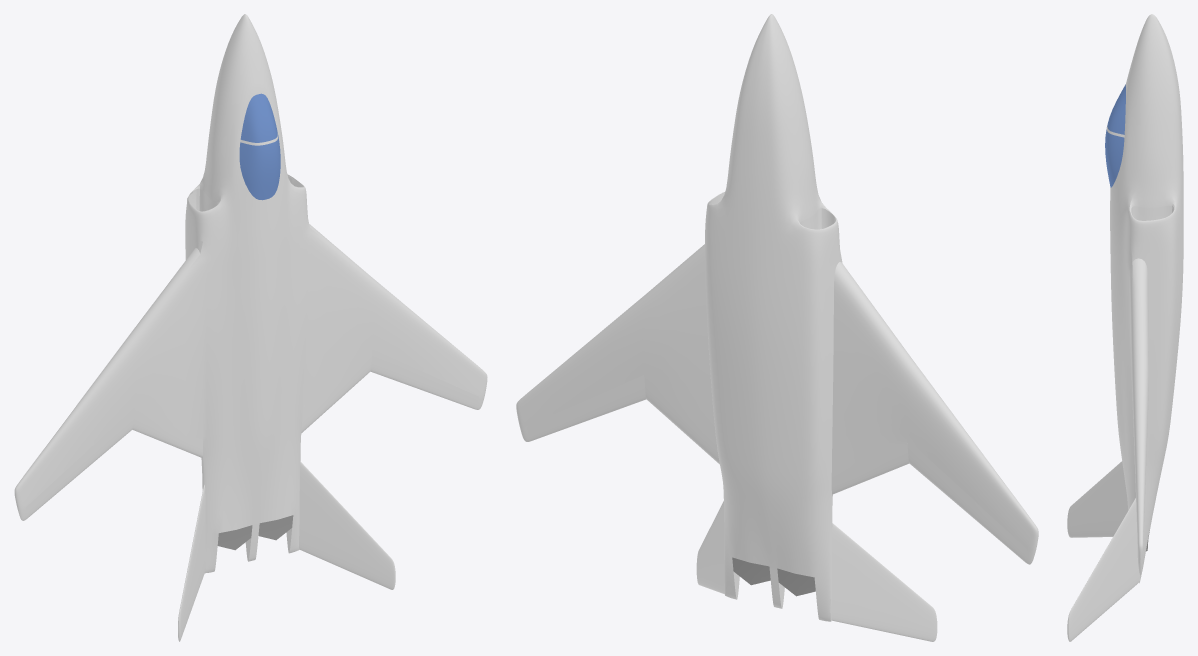
The picture shows the model from 3 angles, left to right: view 1: azimuth 30°, elevation 25°; view 2: azimuth 150°, elevation 25°; view 3: azimuth 270°, elevation 25°; orthographic projection. The views are drawn at different scales.
Visible parts, largest first — view 1: Body, Elevator-Rudder Right, Canopy1, Aileron Right, Aileron Left, Elevator-Rudder Left, Engine; view 2: Body, Elevator-Rudder Left, Aileron Right, Aileron Left, Elevator-Rudder Right, Engine; view 3: Body, Elevator-Rudder Right, Elevator-Rudder Left, Canopy1.
Part boxes in pixels (box(x1,y1,x2,y2)): Body: box(14, 14, 487, 573); Elevator-Rudder Right: box(299, 461, 395, 589); Canopy1: box(239, 93, 280, 200); Aileron Right: box(370, 349, 478, 409); Aileron Left: box(25, 407, 134, 517); Elevator-Rudder Left: box(178, 484, 205, 641); Engine: box(217, 515, 293, 550); Body: box(516, 14, 1038, 621); Elevator-Rudder Left: box(831, 523, 937, 641); Aileron Right: box(526, 375, 646, 440); Aileron Left: box(907, 439, 1026, 561); Elevator-Rudder Right: box(696, 501, 724, 594); Engine: box(732, 557, 815, 596); Body: box(1110, 14, 1183, 583); Elevator-Rudder Right: box(1067, 498, 1139, 641); Elevator-Rudder Left: box(1067, 461, 1128, 537); Canopy1: box(1105, 84, 1125, 187).
Bounding box in the file's own units: 0.7519 × 0.8703 × 0.1596.
